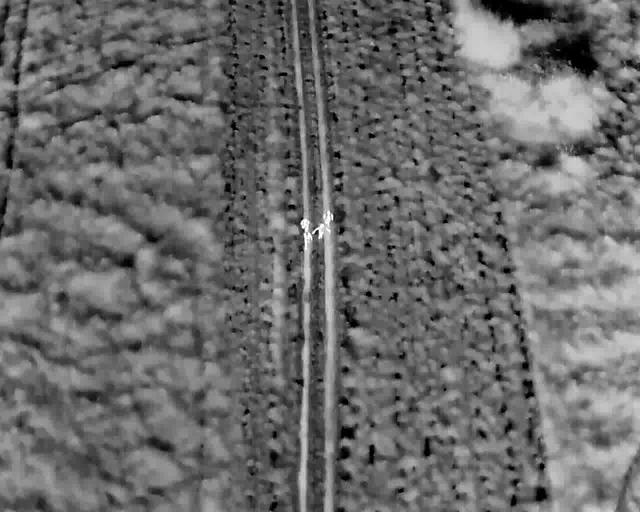person: (311, 222, 332, 240), (322, 209, 335, 229), (302, 228, 312, 252), (299, 216, 311, 236)
